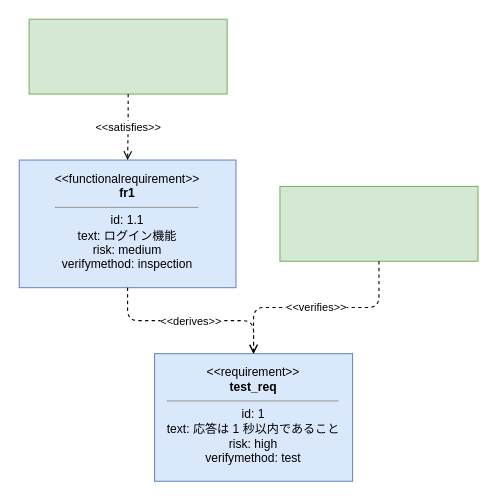
This 497x501 diagram has some shape labels left out. The shapes that lost their labels are listed below. From the top down, each one's centre as x and y in pixels, then its label:
the point at 127,56: <<element>> web_app type: application
the point at 378,223: <<element>> sim type: simulation
